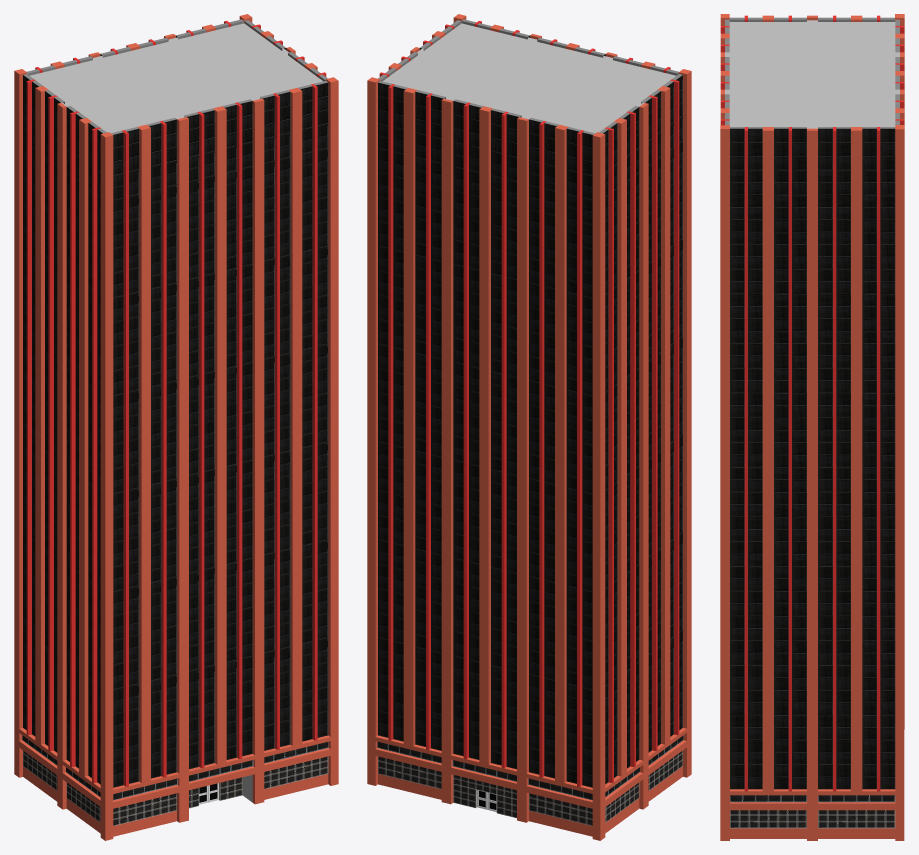
File: Office-05.fbx
The picture shows the model from 3 angles, left to right: view 1: azimuth 30°, elevation 25°; view 2: azimuth 150°, elevation 25°; view 3: azimuth 270°, elevation 25°; orthographic projection.
Visible parts, largest first — view 1: Building; view 2: Building; view 3: Building.
Boxes of the visible parts, bbox=[...] form: Building: bbox=[14, 14, 338, 840]; Building: bbox=[367, 14, 691, 840]; Building: bbox=[720, 14, 904, 840].
Size of what is drawn, in the model's own units: 29.92 by 86.2 by 20.23.
